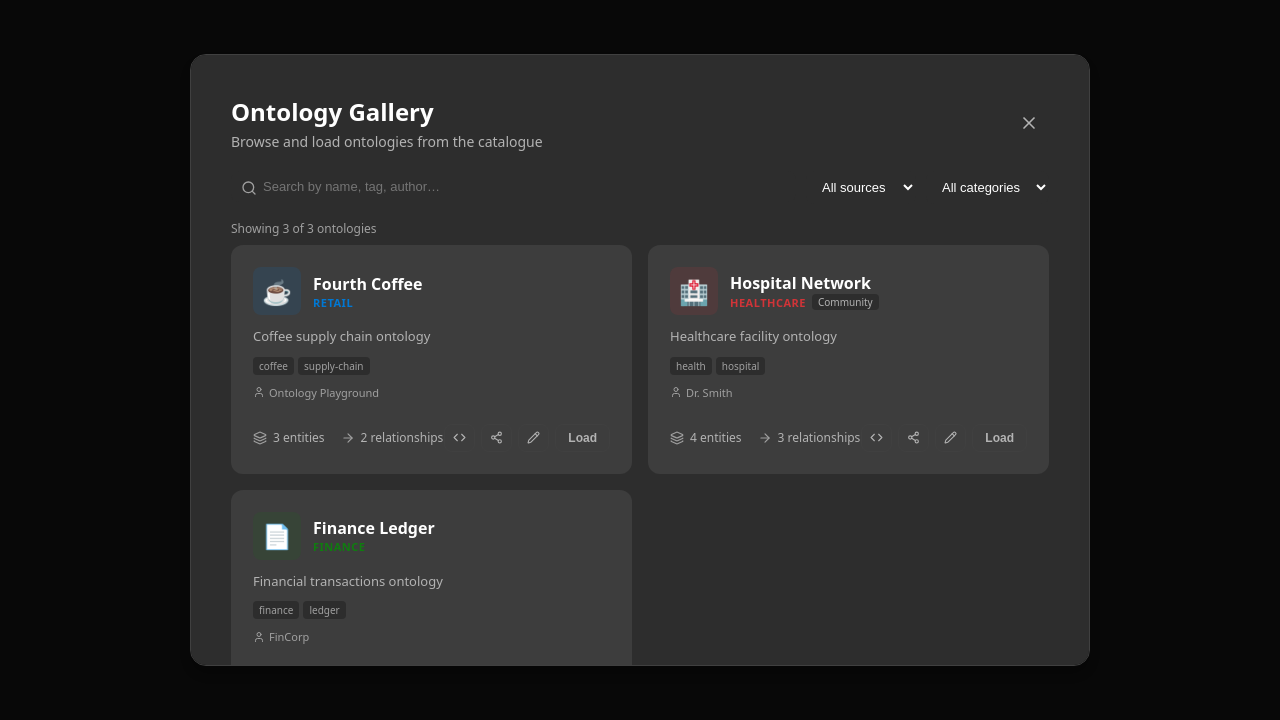
Test: GalleryModal › filters entries by search query (name)
Expected: the text "Fourth Coffee" is shown, [313,272,422,294]
Type "hospital" into the field with placeholder "Search by name, tag, author…" at [514, 186], box [231,171,796,202]
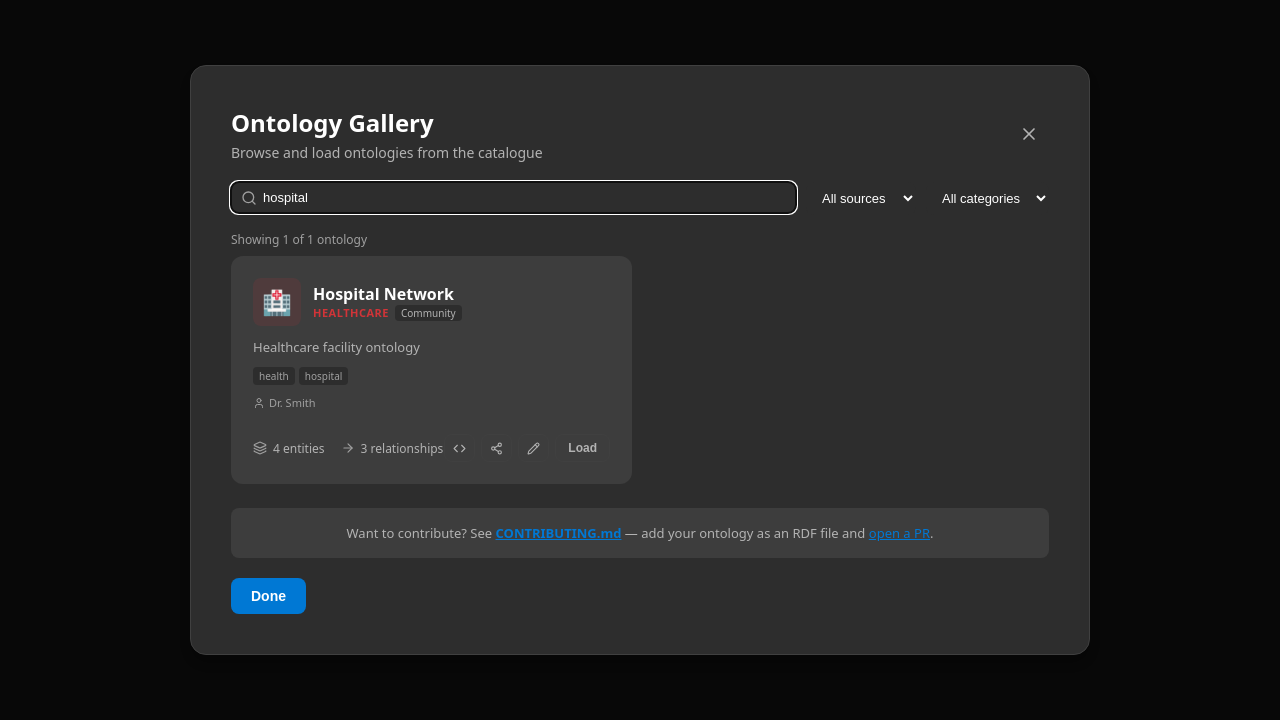
Expected: the text "Hospital Network" is shown, [313,283,462,305]
Expected: the text "Fourth Coffee" is gone
Expected: the text "Finance Ledger" is gone
